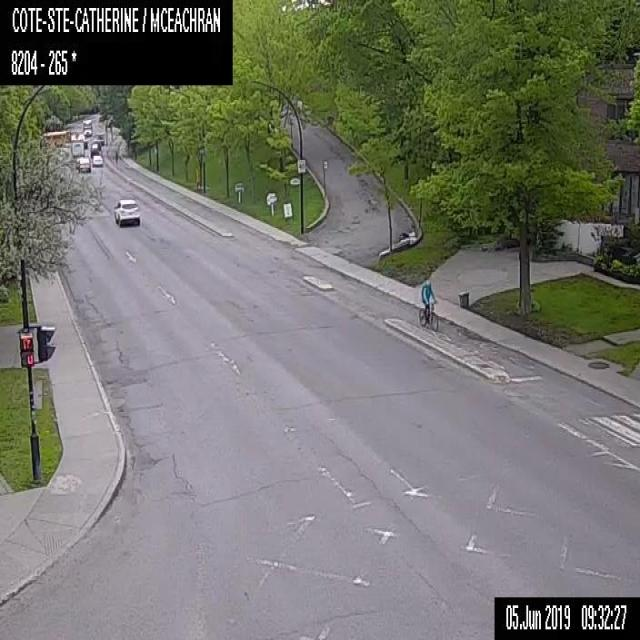bus: (40, 130, 70, 146)
cyclist: (418, 278, 439, 330), (114, 150, 118, 162)
vehicle: (113, 197, 139, 224), (71, 138, 84, 156), (82, 119, 92, 135), (92, 132, 104, 144), (79, 157, 90, 170), (71, 128, 83, 139), (92, 154, 103, 165), (75, 155, 84, 167), (91, 139, 101, 149), (90, 144, 98, 156), (83, 138, 88, 148)
